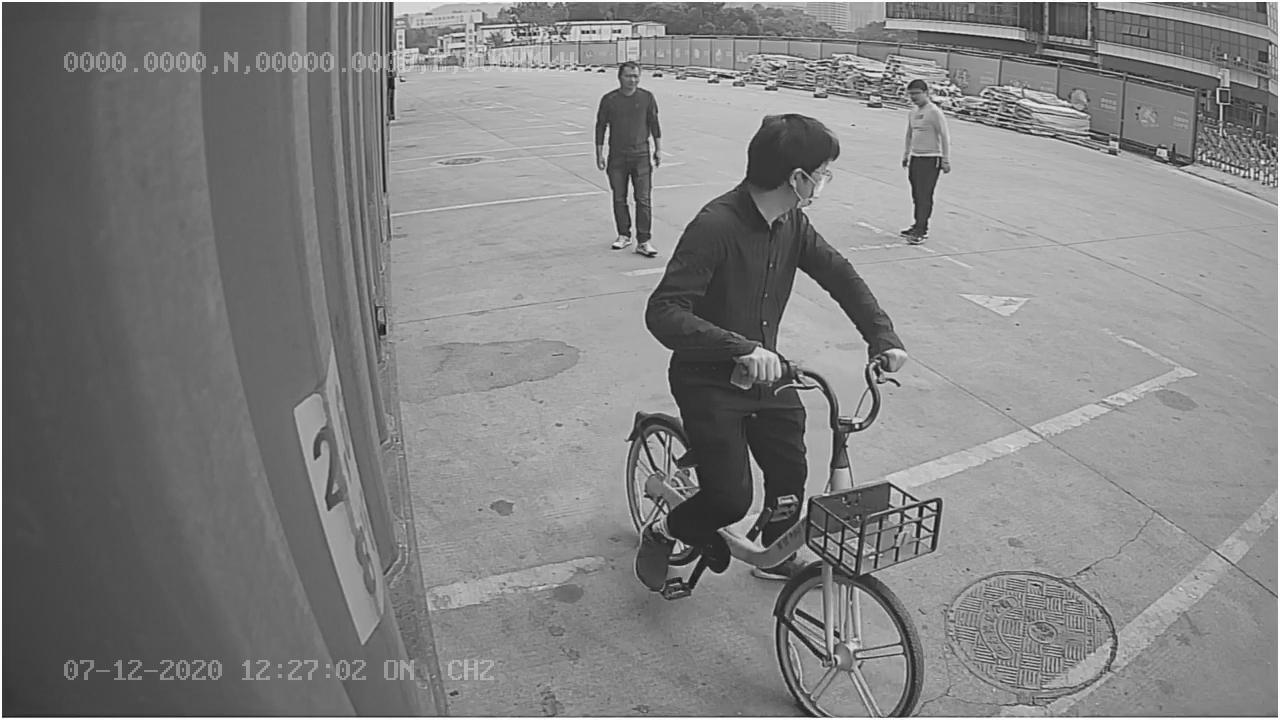person: (585, 51, 666, 264)
